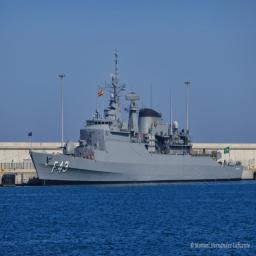Fragata: (28, 47, 245, 189)
